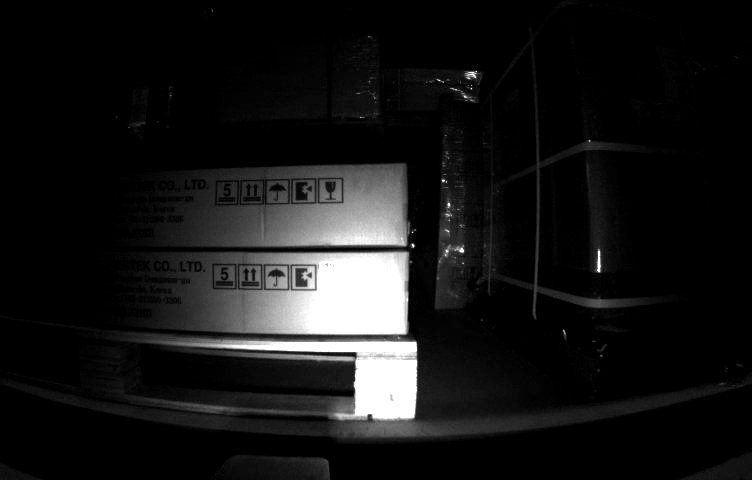True Barcode: (320, 258, 375, 315)
